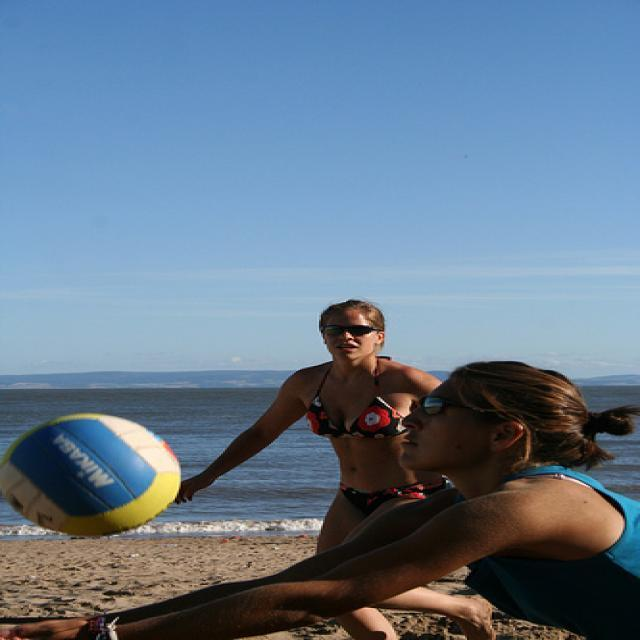volleyball: (1, 412, 181, 534)
